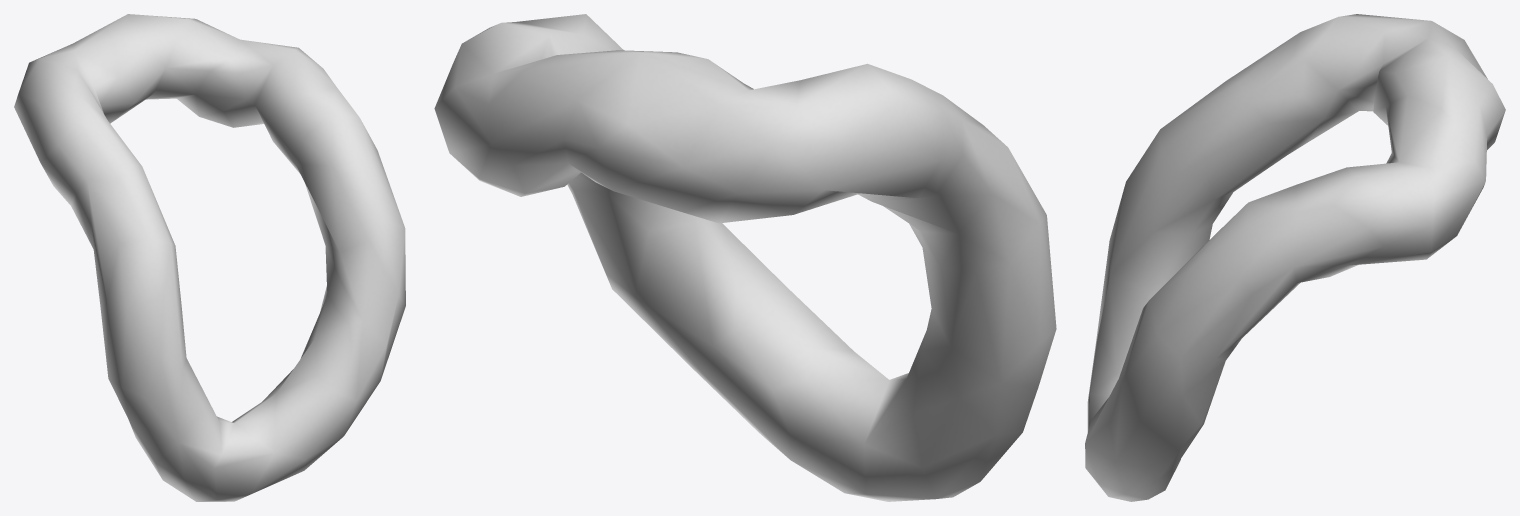
File: silver chain.glb
3 renders of one model, left to right at view 1: azimuth 30°, elevation 25°; view 2: azimuth 150°, elevation 25°; view 3: azimuth 270°, elevation 25°, orthographic. The views are drawn at different scales.
Parts seen in each view (by area): view 1: chain_silver.001; view 2: chain_silver.001; view 3: chain_silver.001.
Boxes of the visible parts, x1,y1,x2,y2 form: chain_silver.001: [14, 14, 405, 501]; chain_silver.001: [434, 14, 1056, 501]; chain_silver.001: [1085, 14, 1505, 501].
Size of the model in its own units: 0.0896 by 0.108 by 0.0913.
Materials: 1 (1 with a texture image).
